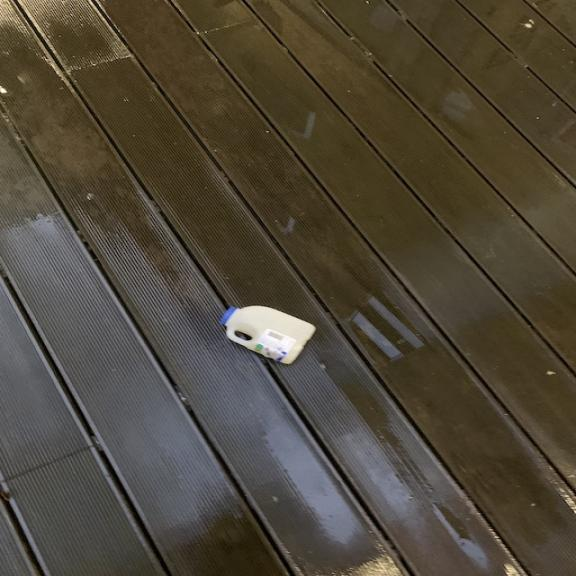Plastik: (221, 304, 316, 368)
